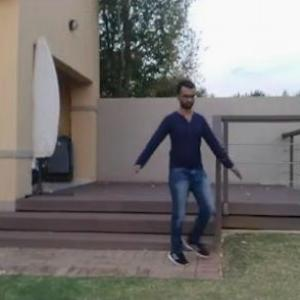land: (128, 93, 235, 270)
